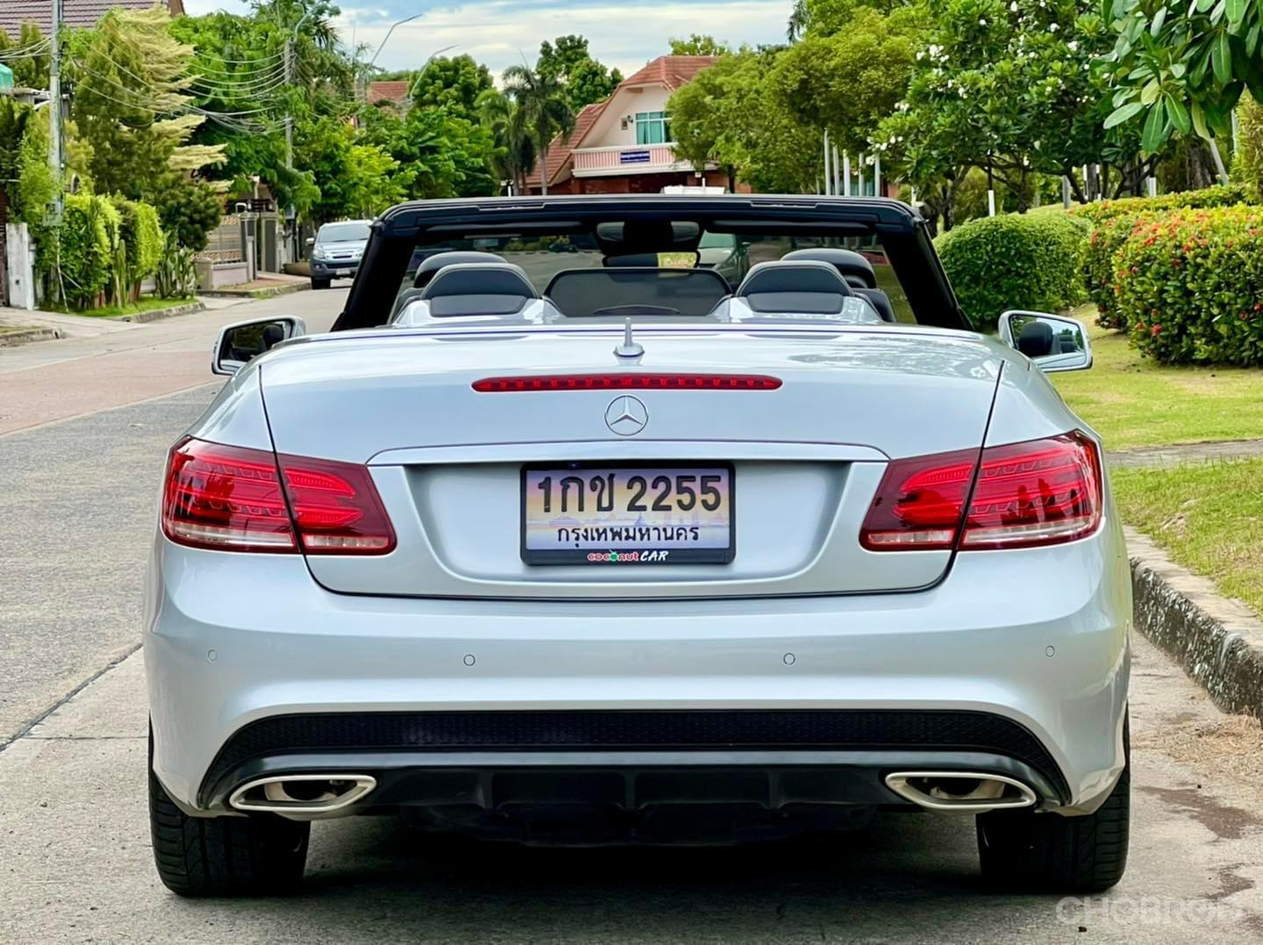license-plate: (500, 437, 756, 585)
